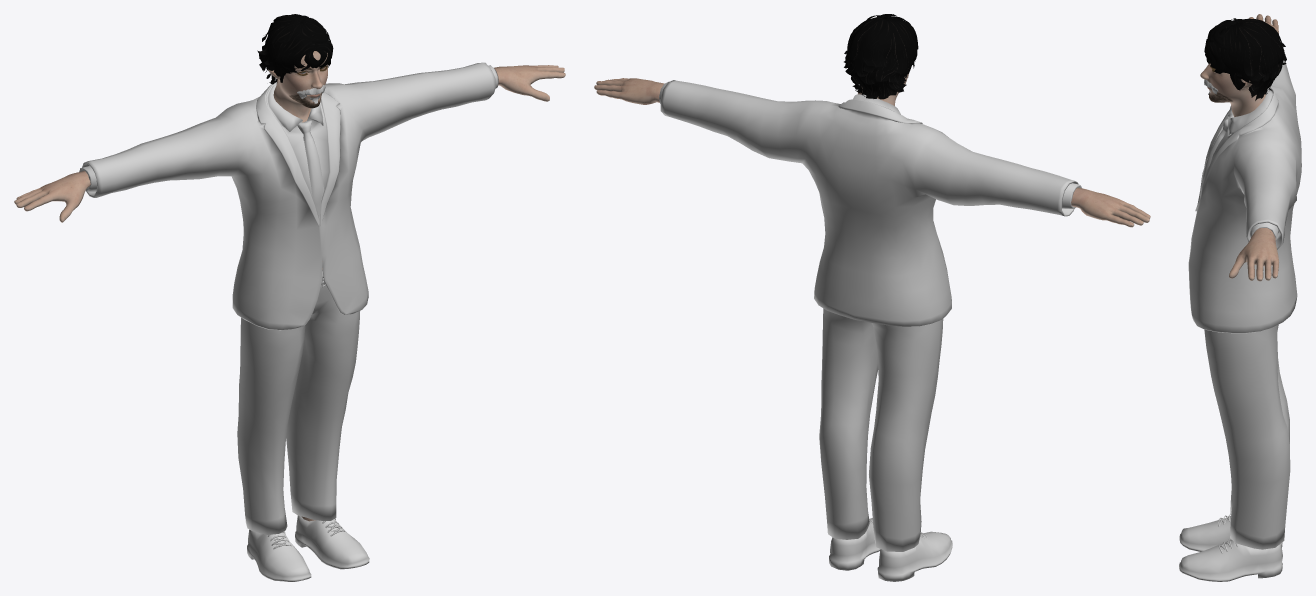
Rendered from poe2.obj.
The picture shows the model from 3 angles, left to right: view 1: azimuth 30°, elevation 25°; view 2: azimuth 150°, elevation 25°; view 3: azimuth 270°, elevation 25°; orthographic projection.
Visible parts, largest first — view 1: Tops, Bottoms, Body, Shoes, Hair; view 2: Tops, Bottoms, Hair, Shoes, Body; view 3: Tops, Bottoms, Hair, Shoes, Body.
Part boxes in pixels (x1,y1,x2,y2): Tops: (79,62,498,330); Bottoms: (237,271,359,534); Body: (14,51,565,521); Shoes: (247,515,369,581); Hair: (257,14,333,84); Tops: (659,80,1081,326); Bottoms: (819,308,943,551); Hair: (844,14,918,99); Shoes: (829,518,952,581); Body: (594,72,1150,227); Tops: (1188,41,1301,333); Bottoms: (1204,324,1290,549); Hair: (1204,18,1286,100); Shoes: (1179,514,1282,581); Body: (1200,14,1278,281).
Size of the model in its own units: 194 by 182 by 37.66.
